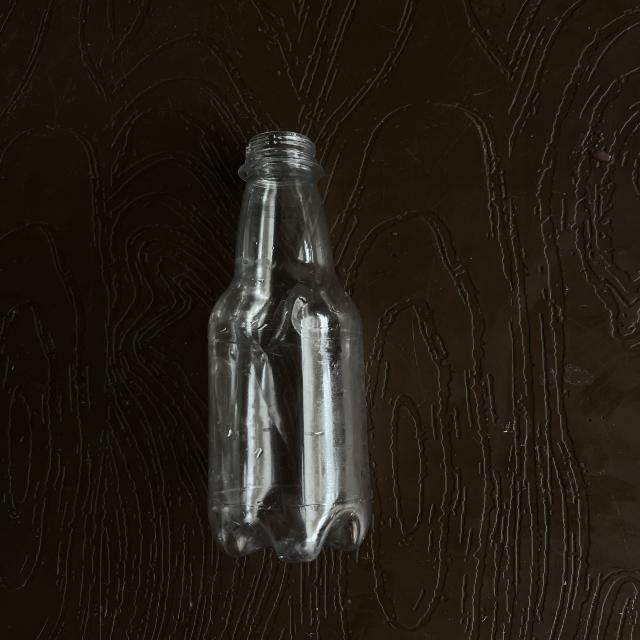PET_With_Liquid: (209, 132, 370, 561)
